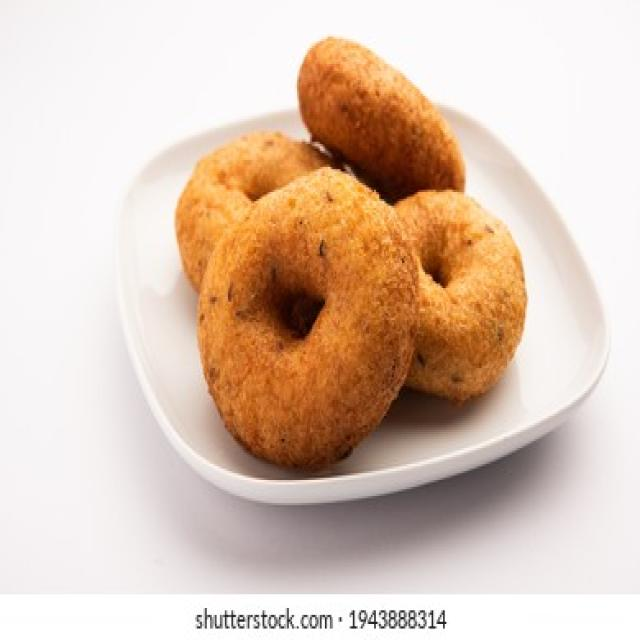MEDU VADA: (199, 169, 418, 464), (395, 190, 527, 400), (299, 37, 463, 199), (177, 133, 336, 290)
